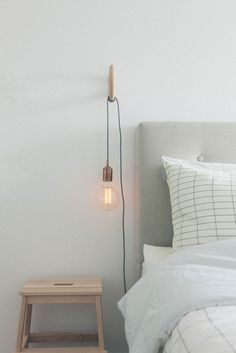bulb: (91, 170, 123, 220)
